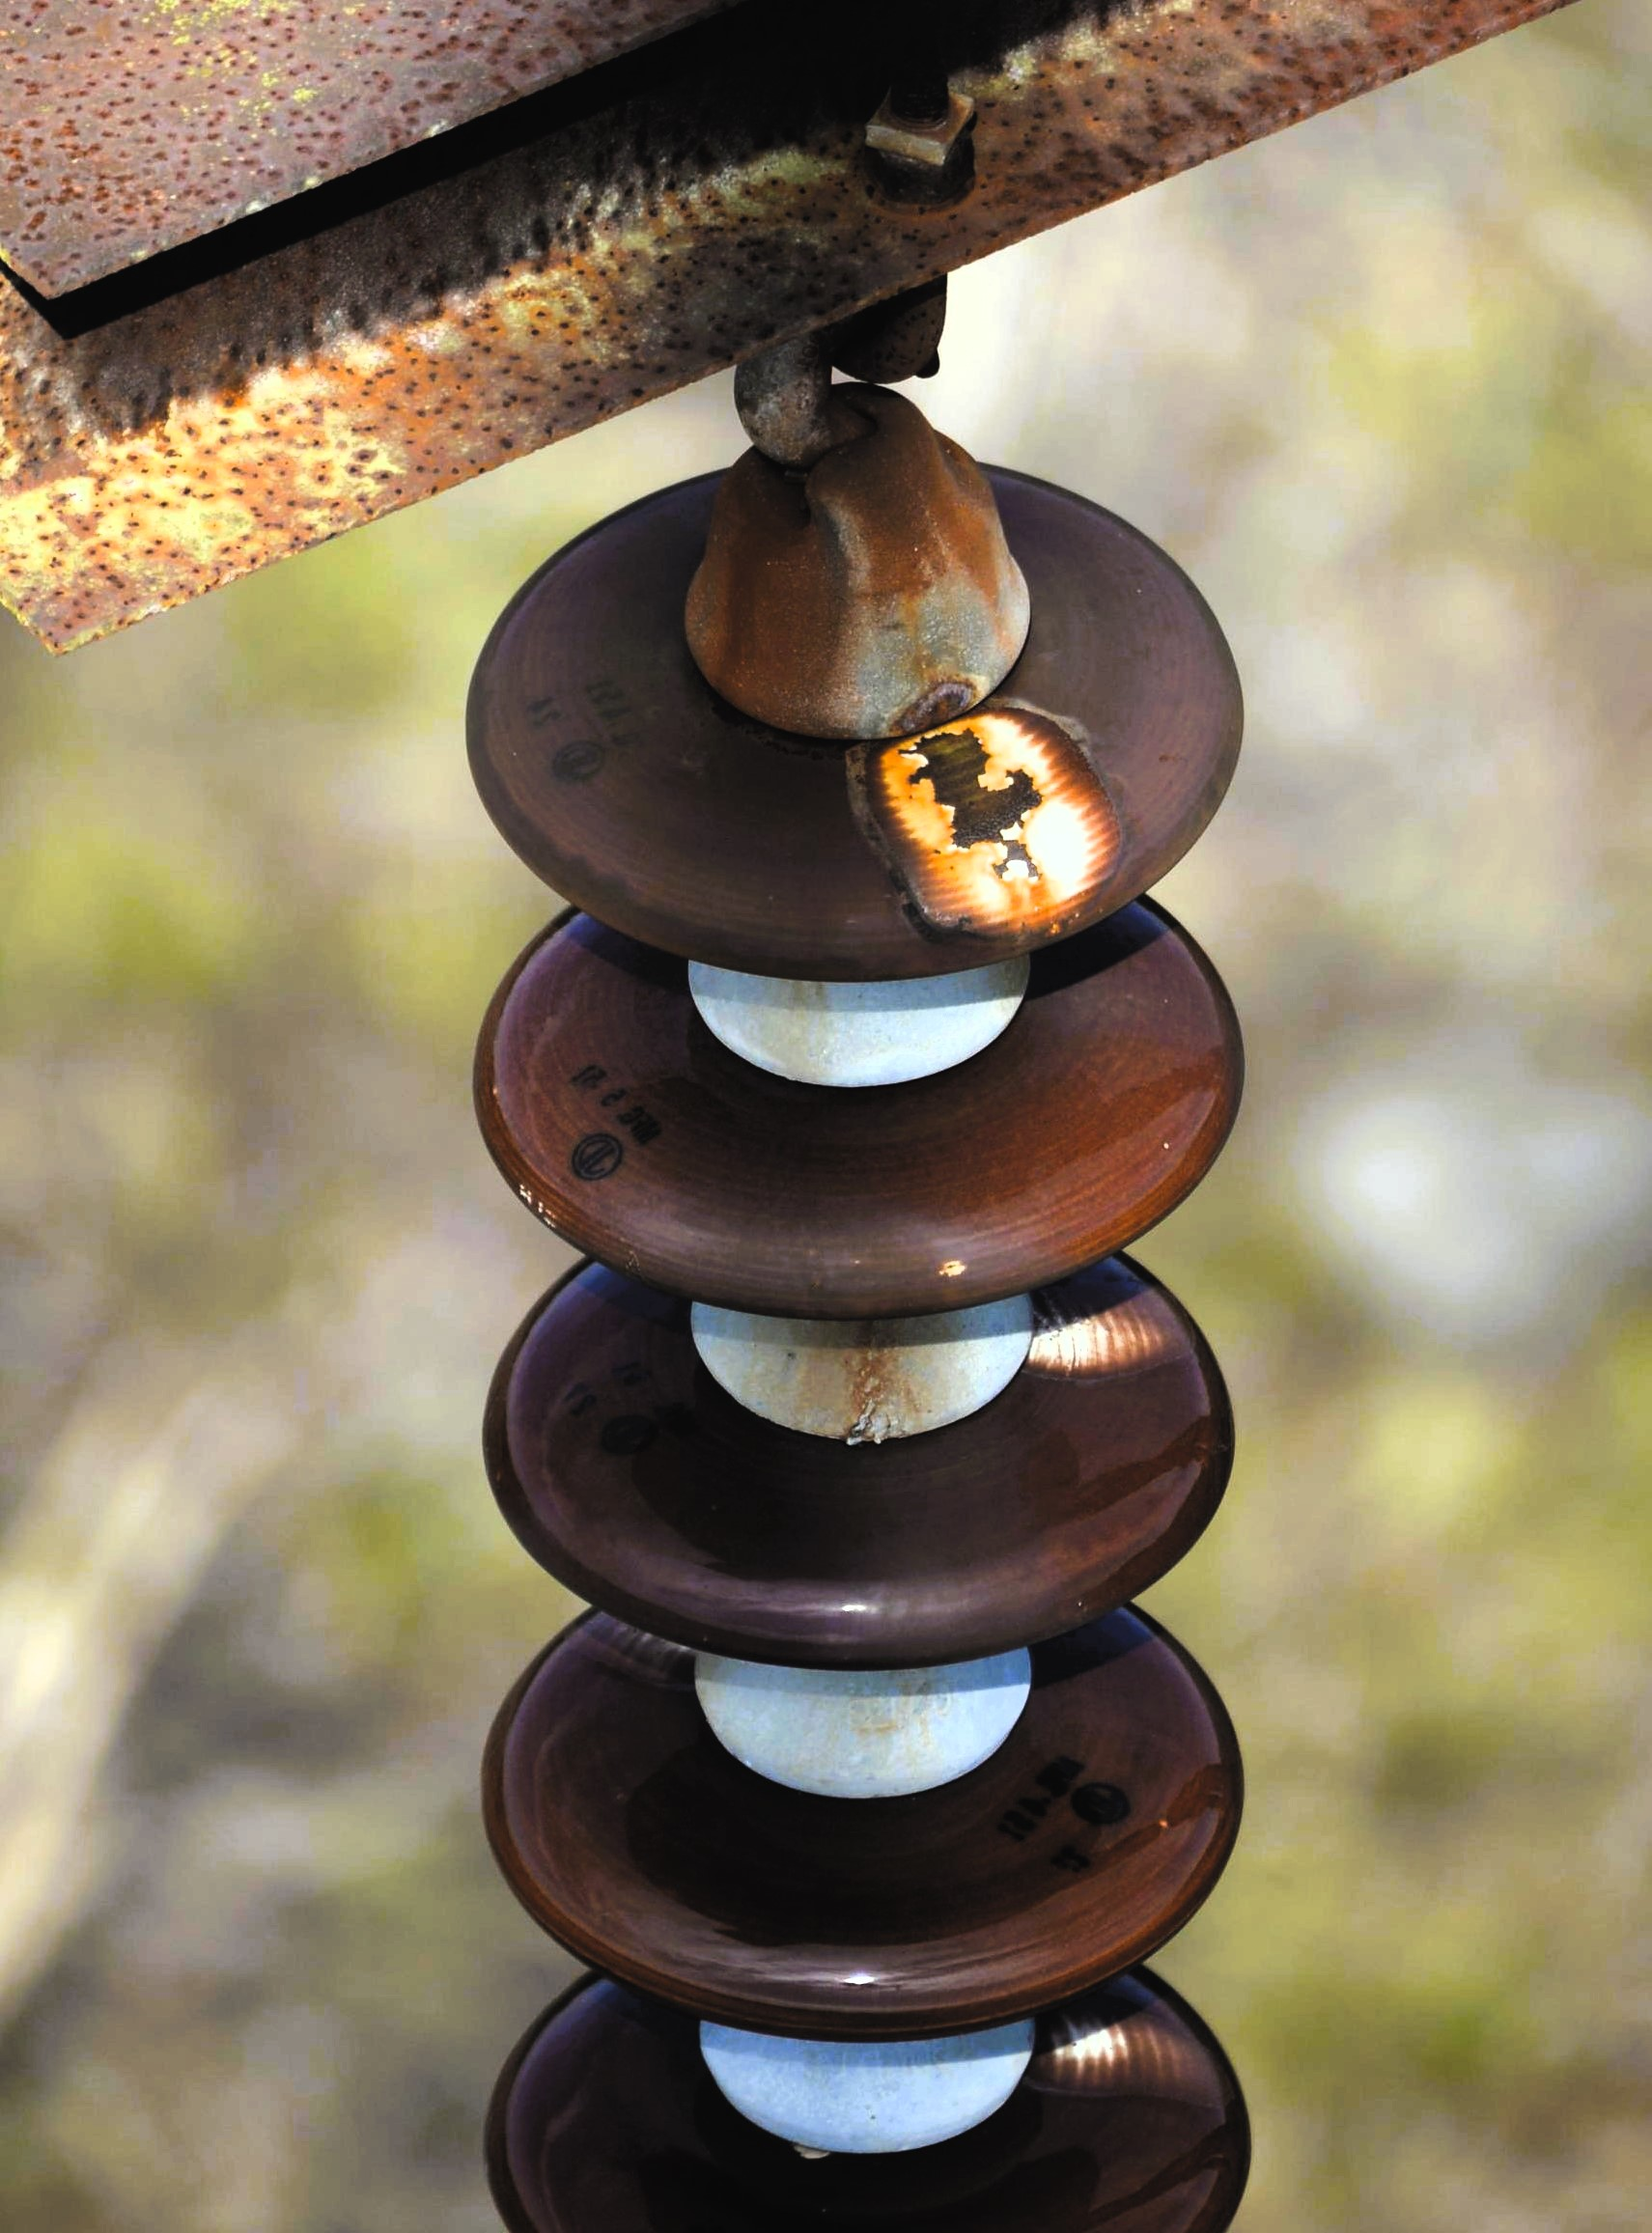Insulator flashover: (439, 446, 1256, 989)
